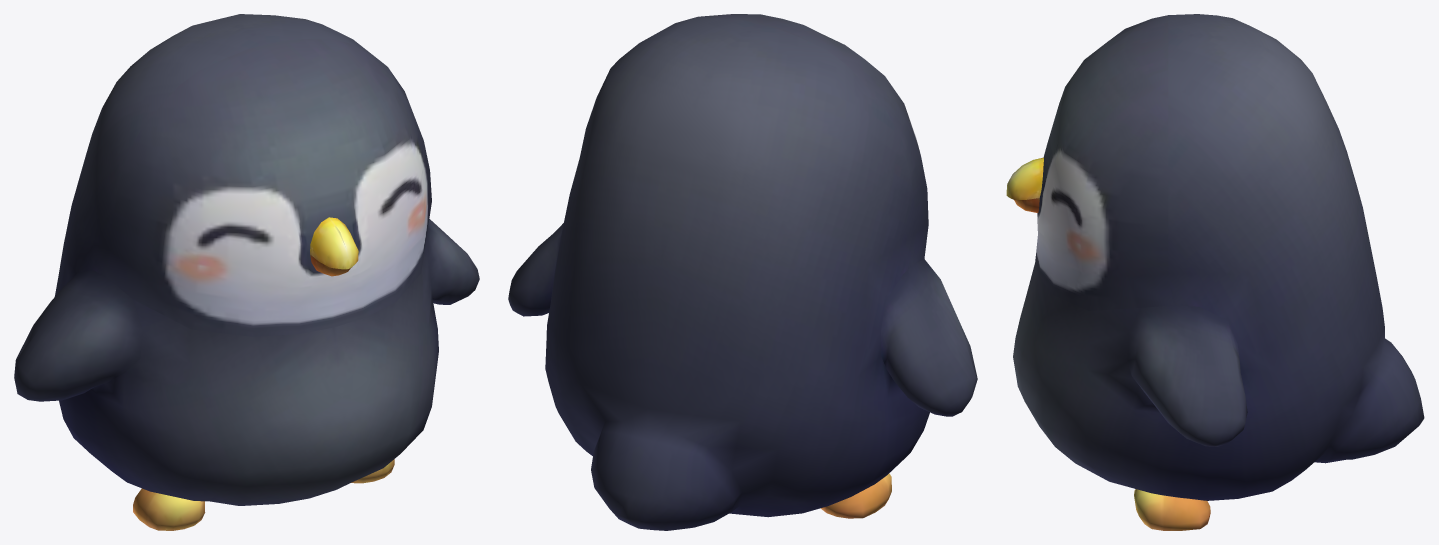
The model's file is pet_00003.glb.
3 renders of one model, left to right at view 1: azimuth 30°, elevation 25°; view 2: azimuth 150°, elevation 25°; view 3: azimuth 270°, elevation 25°, orthographic. The views are drawn at different scales.
Bounding box in the file's own units: 1 × 0.9578 × 0.825.
2 materials, 2 textured.
